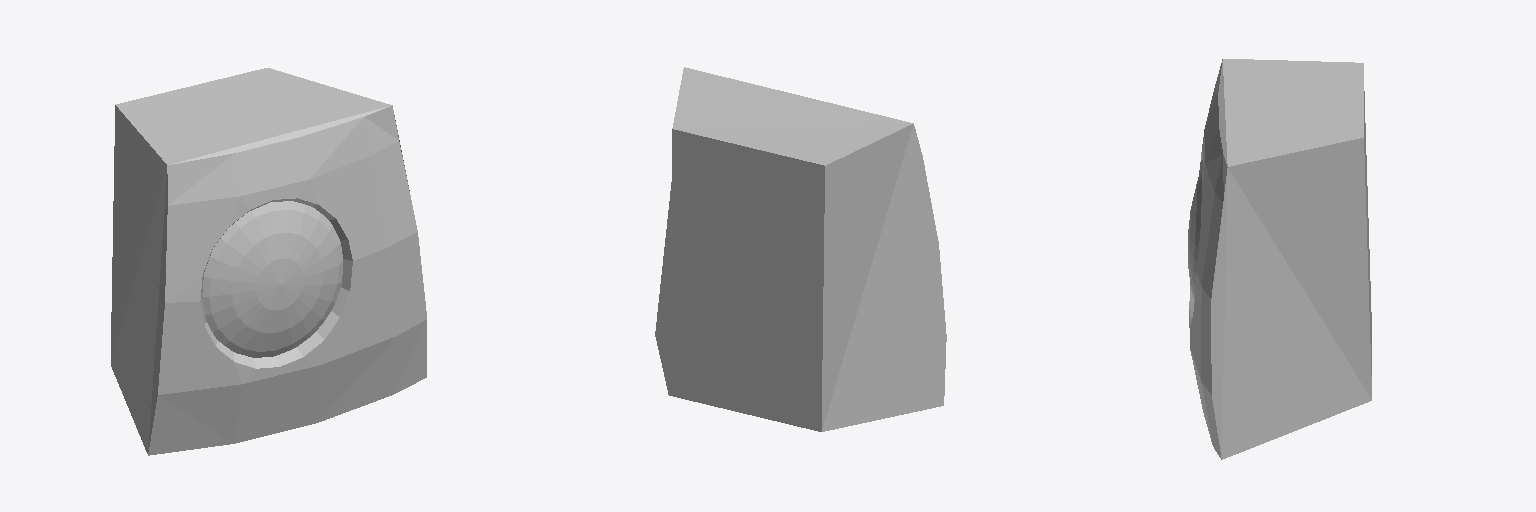
The model's file is R2D2BigCamera.obj.
3 renders of one model, left to right at view 1: azimuth 30°, elevation 25°; view 2: azimuth 150°, elevation 25°; view 3: azimuth 270°, elevation 25°, orthographic.
Parts seen in each view (by area): view 1: r2d2; view 2: r2d2; view 3: r2d2.
Part boxes in pixels (bbox=[...]): r2d2: bbox=[111, 68, 426, 455]; r2d2: bbox=[655, 67, 946, 431]; r2d2: bbox=[1188, 59, 1371, 459].
Bounding box in the file's own units: 0.5609 × 0.547 × 0.3158.